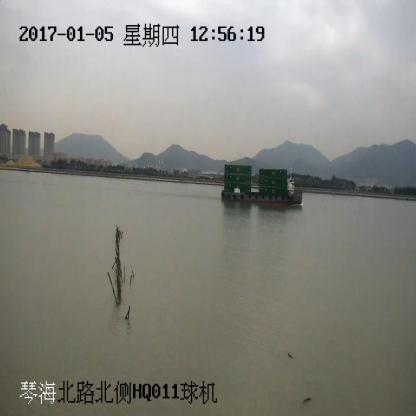Container Ship: (222, 165, 301, 206)
